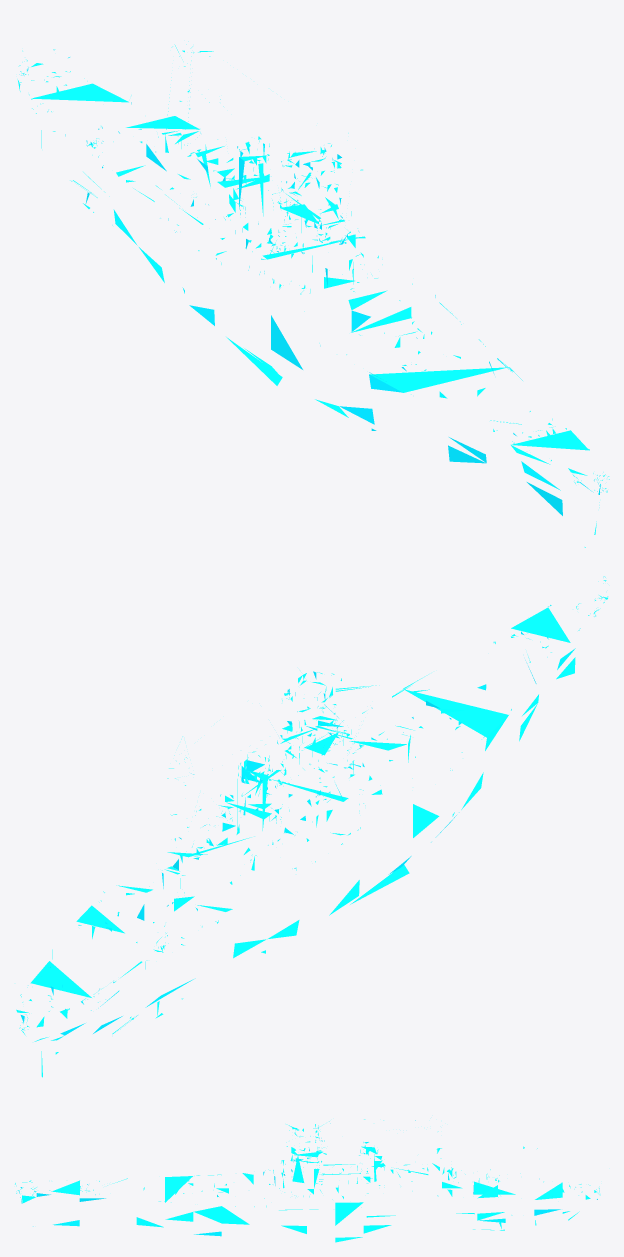
File: Dunkerque.glb
3 views of the same model, one above another, from view 1: azimuth 30°, elevation 25°; view 2: azimuth 150°, elevation 25°; view 3: azimuth 270°, elevation 25° (orthographic). The views are drawn at different scales.
Bounding box in the file's own units: 2.07 × 3.26 × 14.6.
